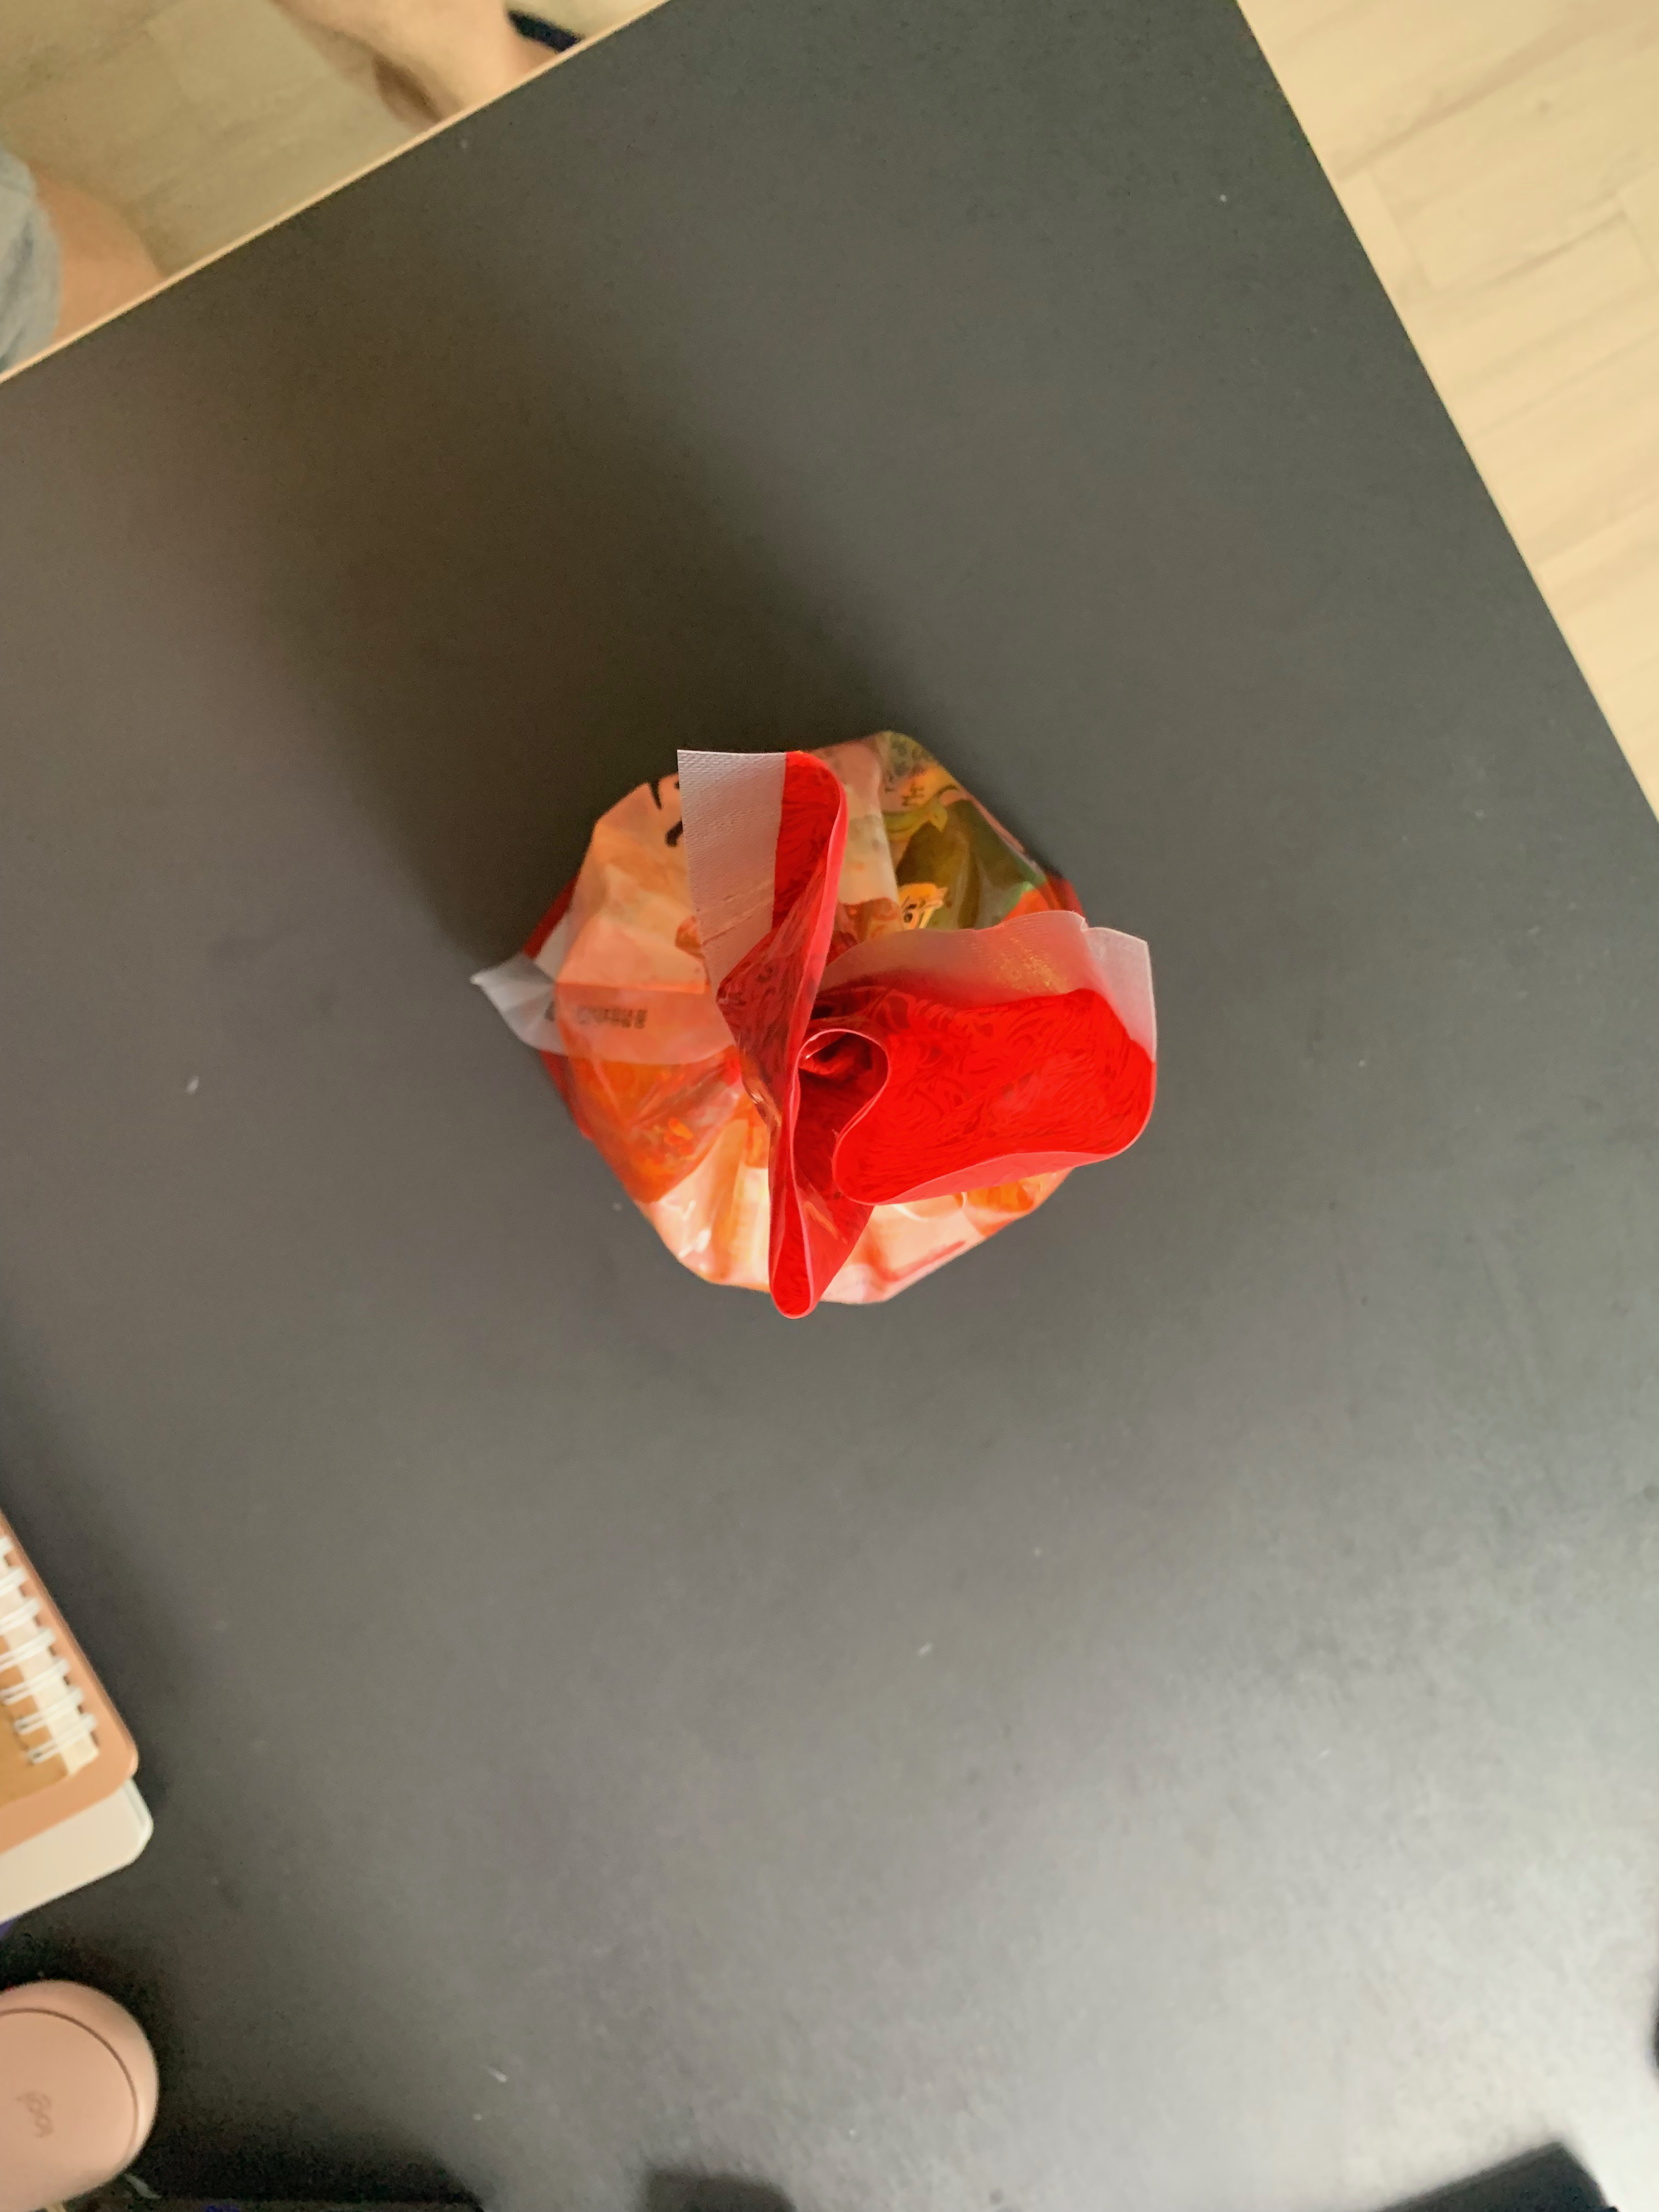kimchi: (538, 728, 1161, 1310)
